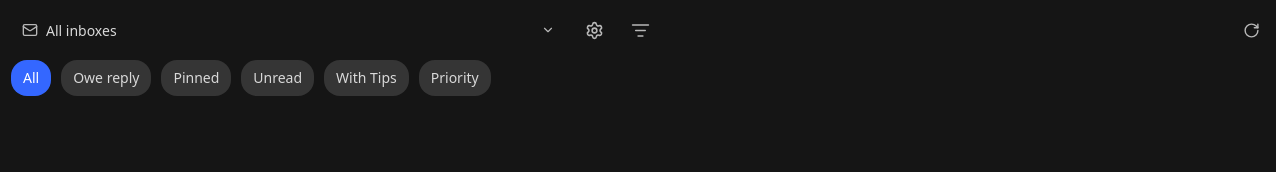
Test case: FanListFilters › does not offer "Split Inbox settings" to a chatter-only session
What coordinates should you click on to do the following:
click the button "All inboxes"
I would click on:
 (81, 30)
Its box is [11,13,566,47].
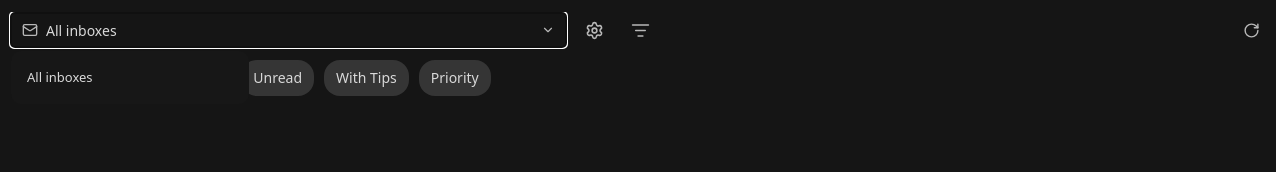
Result: the buttons read "All inboxes", in this order at [17,57,243,98]
